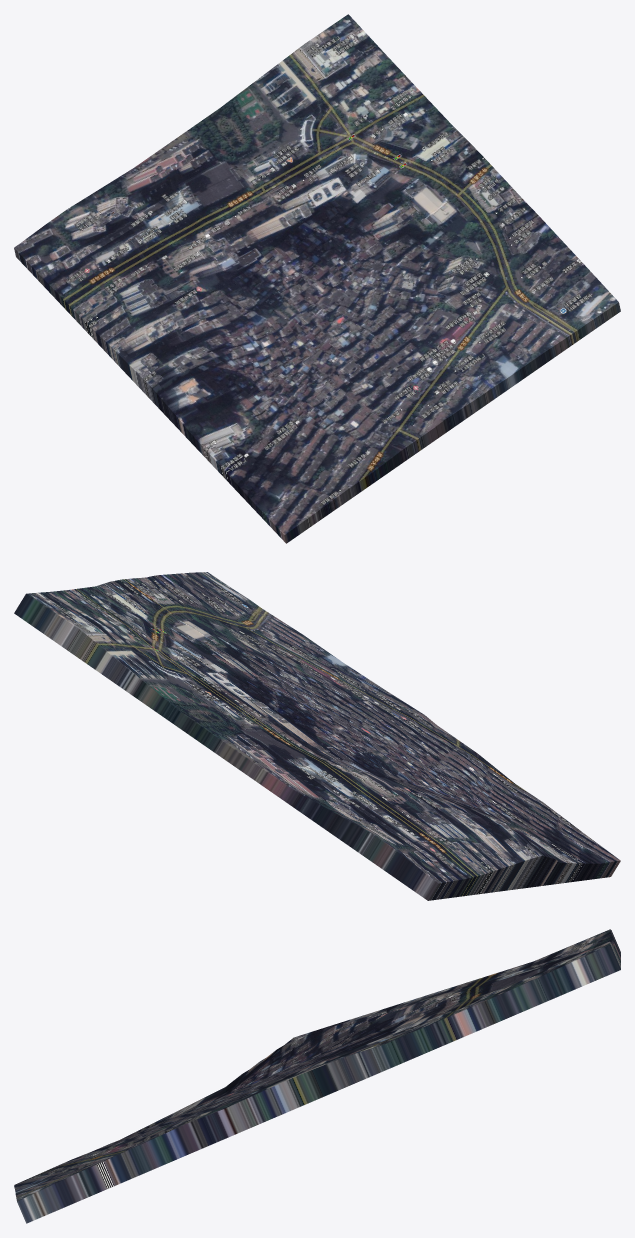
3 renders of one model, top to bottom at view 1: azimuth 30°, elevation 25°; view 2: azimuth 150°, elevation 25°; view 3: azimuth 270°, elevation 25°, orthographic. The views are drawn at different scales.
Parts seen in each view (by area): view 1: 0_10_18; view 2: 0_10_18; view 3: 0_10_18.
Boxes of the visible parts, box(x1,y1,x2,y2) form: 0_10_18: box(14, 14, 620, 543); 0_10_18: box(14, 572, 620, 900); 0_10_18: box(14, 929, 620, 1223).
Bounding box in the file's own units: 600 × 449 × 553.
Materials: 1 (1 with a texture image).
